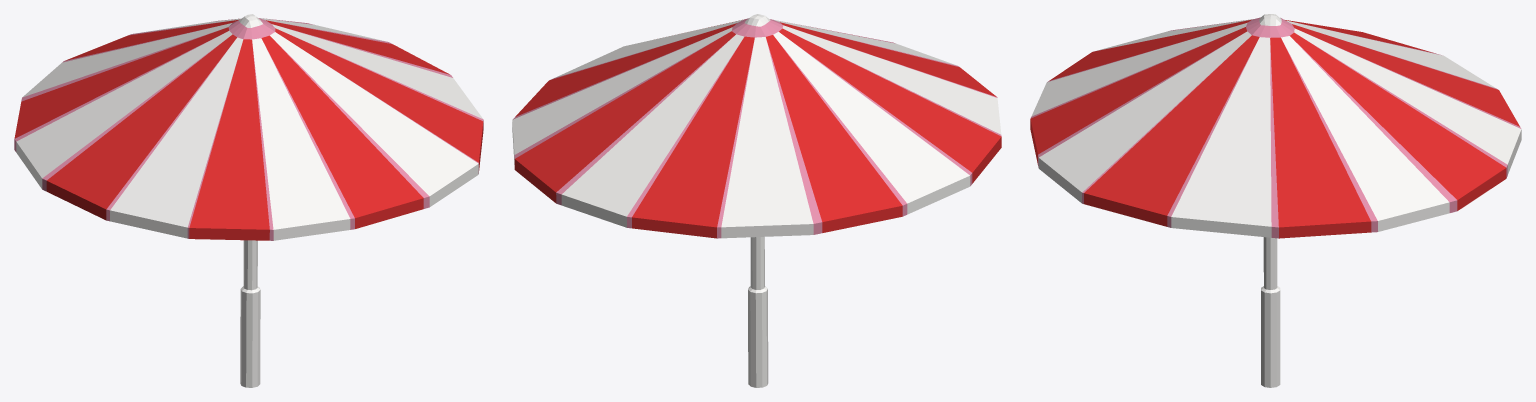
Rendered from Isl_11_Umbrella_1.fbx.
The picture shows the model from 3 angles, left to right: view 1: azimuth 30°, elevation 25°; view 2: azimuth 150°, elevation 25°; view 3: azimuth 270°, elevation 25°; orthographic projection.
Parts seen in each view (by area): view 1: Isl_11_Umbrella_1; view 2: Isl_11_Umbrella_1; view 3: Isl_11_Umbrella_1.
Boxes of the visible parts, x1,y1,x2,y2 form: Isl_11_Umbrella_1: (14, 14, 483, 387); Isl_11_Umbrella_1: (512, 14, 1001, 387); Isl_11_Umbrella_1: (1030, 14, 1521, 387).
Size of the model in its own units: 307 by 314 by 260.
Materials: 1 (1 with a texture image).
